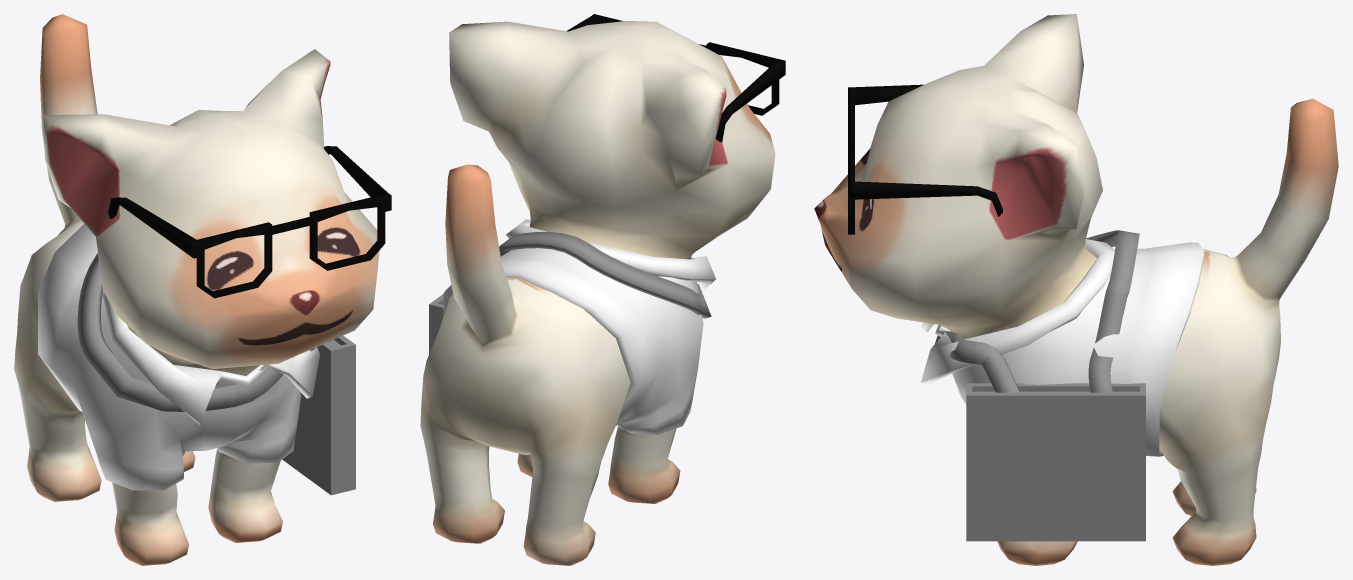
File: Professor Cat02.fbx
3 views of the same model, side by side, from view 1: azimuth 30°, elevation 25°; view 2: azimuth 150°, elevation 25°; view 3: azimuth 270°, elevation 25° (orthographic). The views are drawn at different scales.
Parts seen in each view (by area): view 1: Cat_Base001, Professor_Cat_Shirt, Professor_Cat_Bag, Professor_Cat_Glasses; view 2: Cat_Base001, Professor_Cat_Shirt, Professor_Cat_Bag, Professor_Cat_Glasses; view 3: Cat_Base001, Professor_Cat_Bag, Professor_Cat_Shirt, Professor_Cat_Glasses.
Part boxes in pixels (box(x1,y1,x2,y2)): Cat_Base001: box(14, 14, 379, 565); Professor_Cat_Shirt: box(38, 224, 319, 490); Professor_Cat_Bag: box(77, 253, 355, 495); Professor_Cat_Glasses: box(108, 146, 391, 298); Cat_Base001: box(420, 20, 775, 565); Professor_Cat_Shirt: box(443, 219, 715, 434); Professor_Cat_Bag: box(429, 232, 711, 353); Professor_Cat_Glasses: box(566, 14, 785, 142); Cat_Base001: box(814, 14, 1338, 565); Professor_Cat_Bag: box(935, 230, 1145, 541); Professor_Cat_Shirt: box(921, 239, 1204, 456); Professor_Cat_Glasses: box(848, 84, 1002, 234).
Size of the model in its own units: 1.75 by 2.83 by 2.68.
4 materials, 1 textured.
